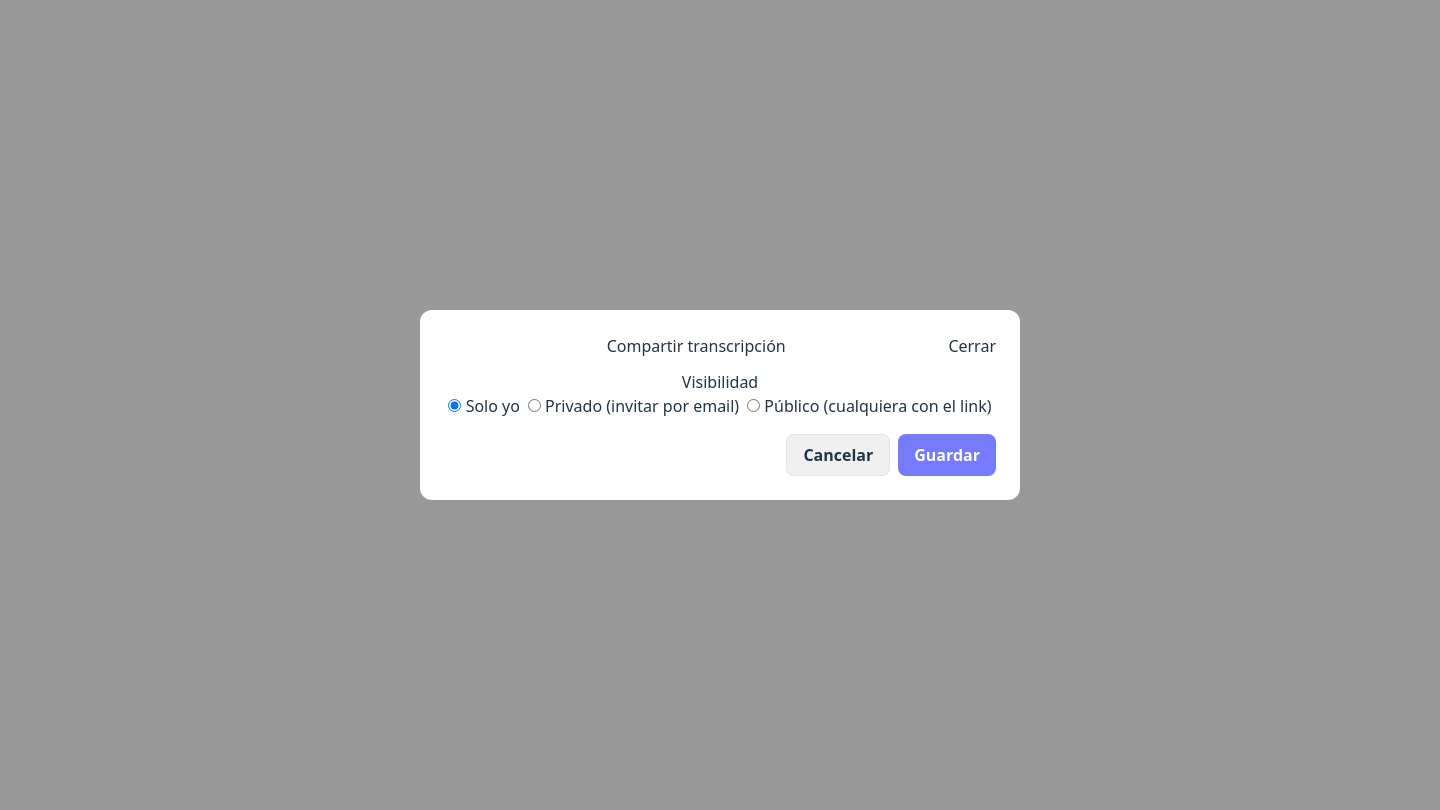
ShareModal › debería cambiar visibilidad a público y generar token
The image size is (1440, 810).
Click the radio button labelled "Público (cualquiera con el link)" at (754, 406), box [747,399,760,412]
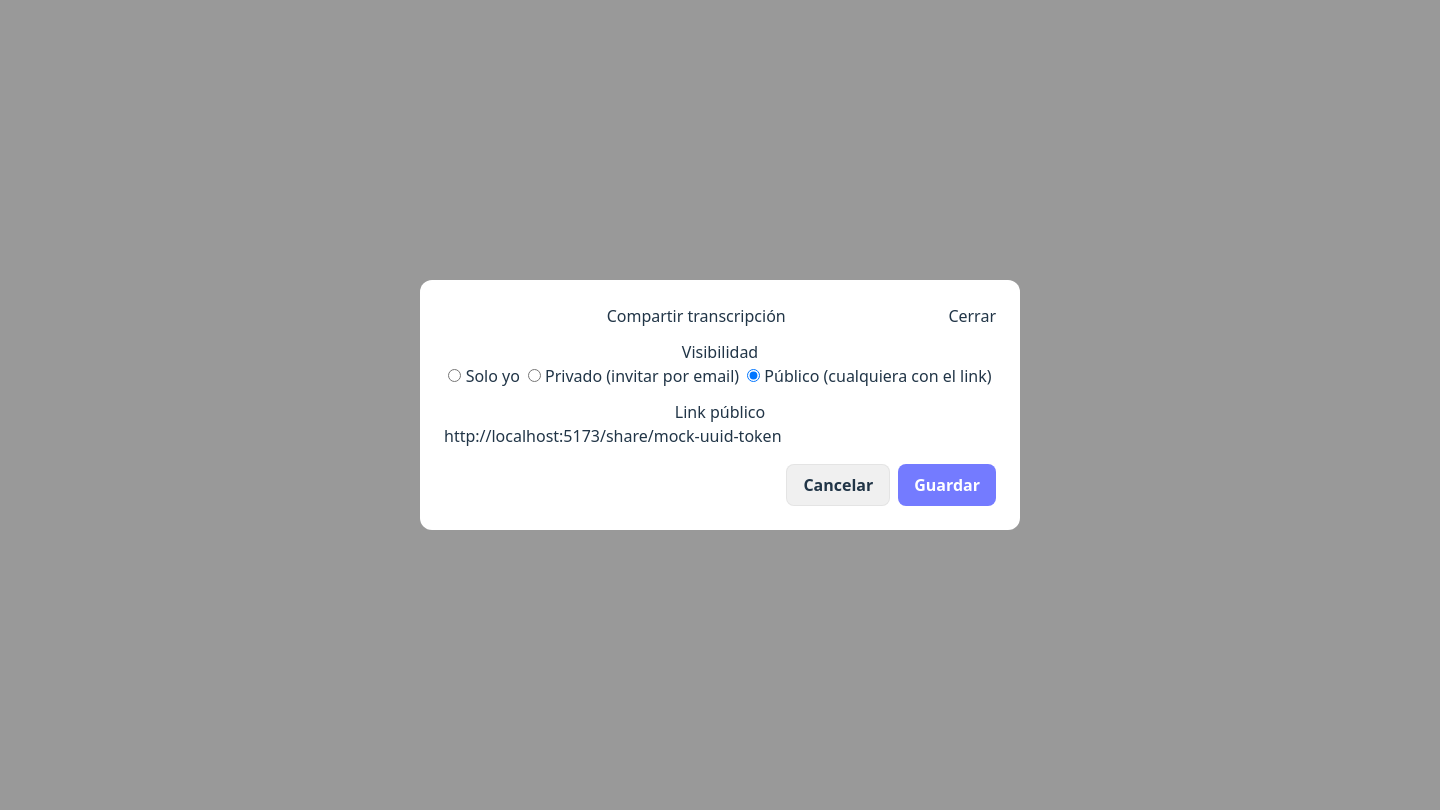
expect the field showing "http://localhost:5173/share/mock-uuid-token" is shown: met, box [444,424,996,448]
